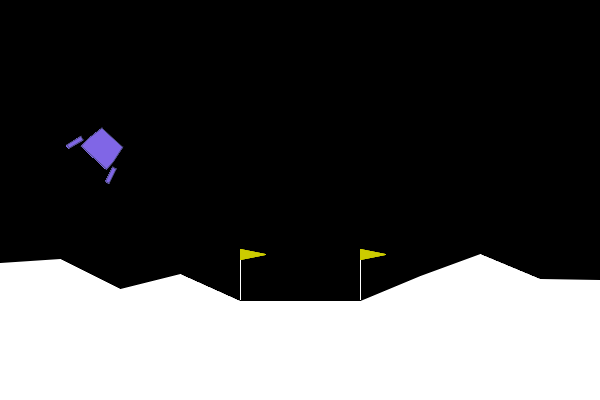lander: (64, 116, 135, 186)
